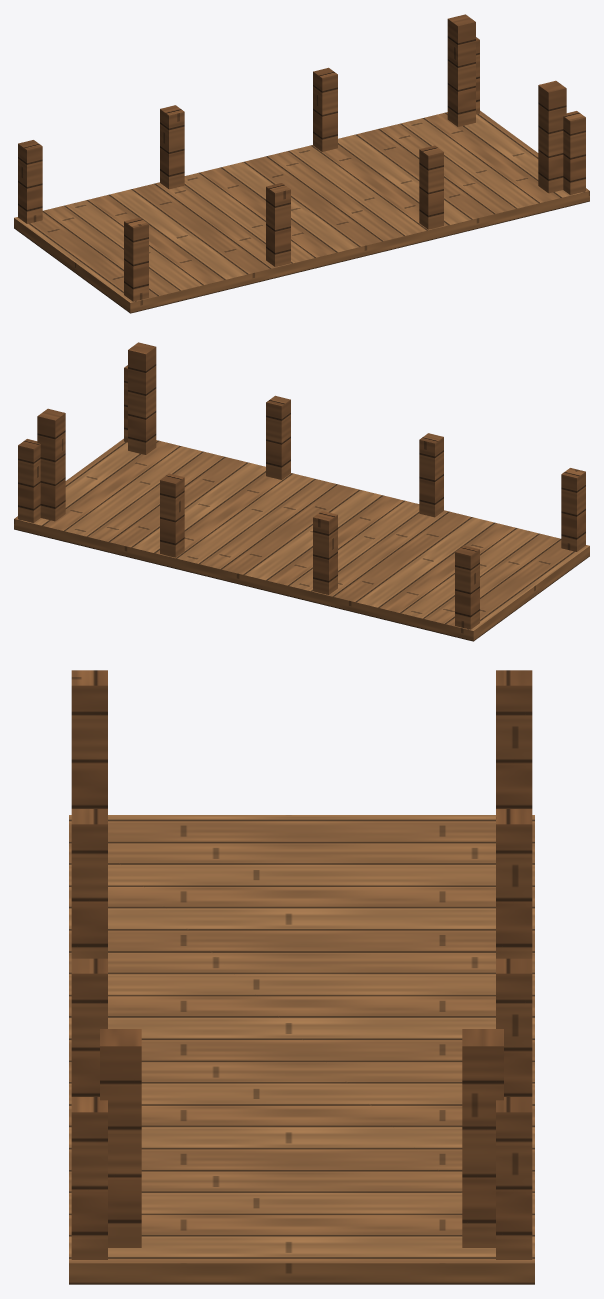
File: pier.glb
3 renders of one model, top to bottom at view 1: azimuth 30°, elevation 25°; view 2: azimuth 150°, elevation 25°; view 3: azimuth 270°, elevation 25°, orthographic. The views are drawn at different scales.
Visible parts, largest first — view 1: pier; view 2: pier; view 3: pier.
Boxes of the visible parts, x1,y1,x2,y2 form: pier: [14, 14, 589, 313]; pier: [14, 342, 589, 641]; pier: [69, 670, 534, 1284].
Bounding box in the file's own units: 4.1 × 0.95 × 1.8.
3 materials, 3 textured.
